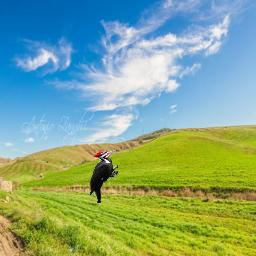Woodpecker: (90, 149, 119, 203)
